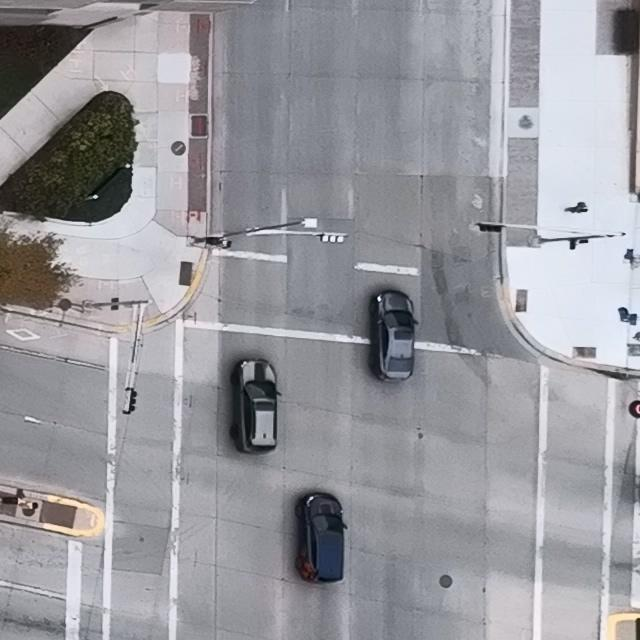car: (230, 358, 282, 455), (295, 491, 348, 583), (369, 290, 419, 383)
